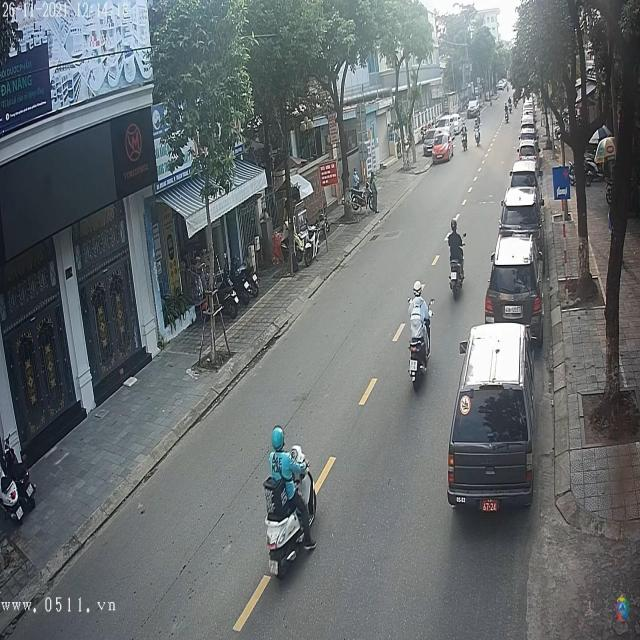car: (449, 326, 535, 510), (484, 234, 544, 328), (500, 184, 541, 232), (431, 129, 454, 164), (518, 143, 538, 162), (468, 99, 482, 117)
motorcycle: (260, 470, 319, 588), (405, 319, 433, 390), (448, 244, 467, 298)
